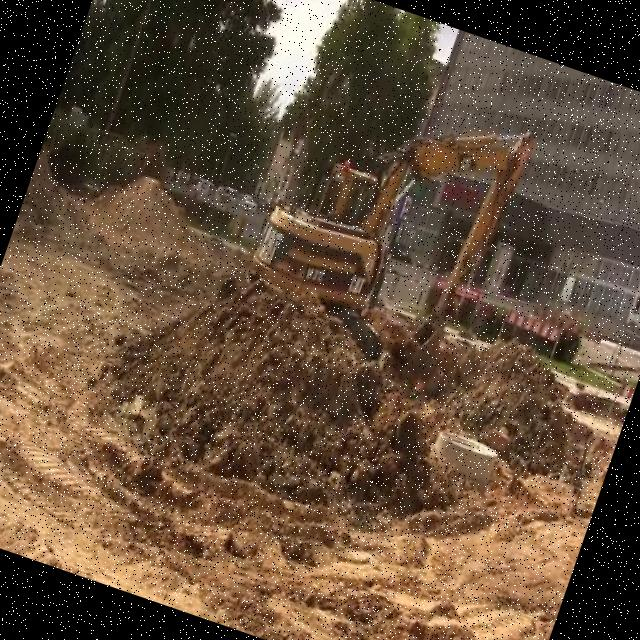Excavator: (233, 44, 542, 386)
